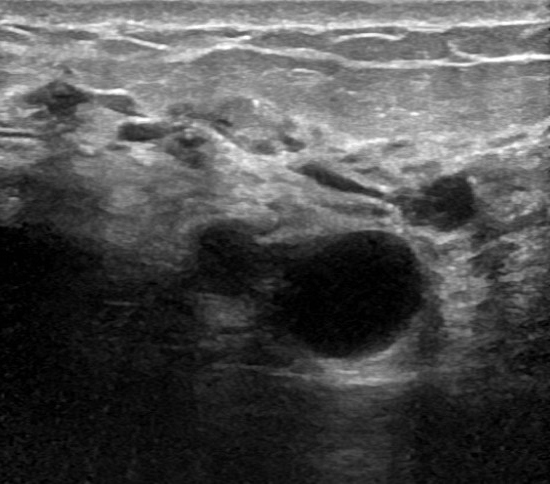Benign: (257, 224, 420, 356)
